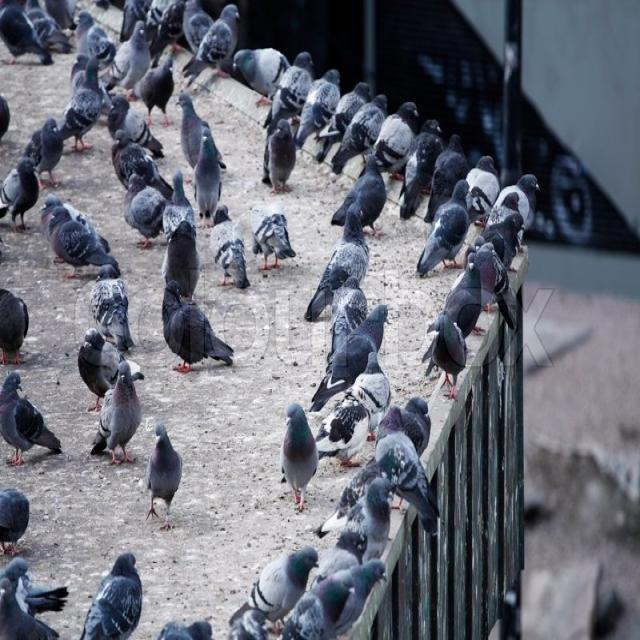bird: (306, 301, 402, 393), (304, 200, 378, 314), (80, 541, 149, 640), (246, 542, 324, 623), (85, 356, 143, 464), (139, 414, 195, 521), (417, 178, 474, 274), (1, 368, 55, 469), (50, 203, 119, 279), (277, 400, 317, 527), (442, 246, 484, 351), (255, 110, 299, 194), (431, 314, 476, 396), (190, 125, 228, 218), (1, 149, 42, 232), (341, 154, 390, 218), (403, 116, 444, 191), (198, 1, 239, 76), (346, 100, 392, 166), (386, 98, 422, 170), (278, 48, 318, 110), (28, 113, 66, 173), (499, 175, 542, 221), (472, 152, 502, 208)
